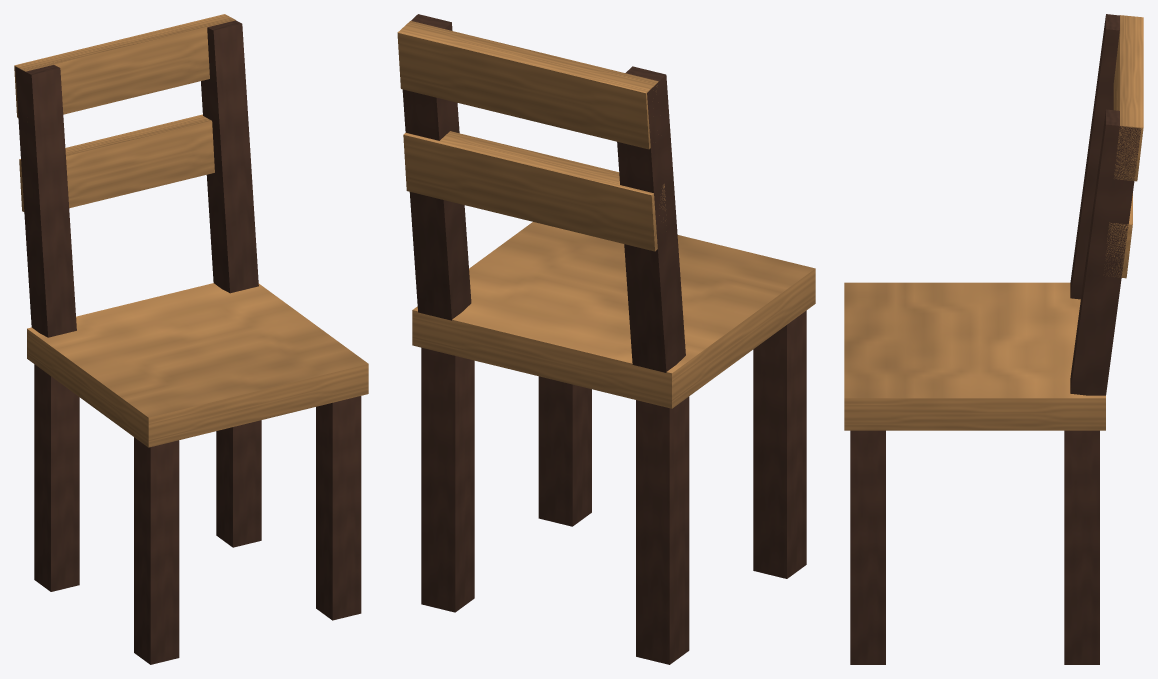
File: prop_chair_01.glb
The picture shows the model from 3 angles, left to right: view 1: azimuth 30°, elevation 25°; view 2: azimuth 150°, elevation 25°; view 3: azimuth 270°, elevation 25°; orthographic projection. The views are drawn at different scales.
Visible parts, largest first — view 1: prop_chair_01; view 2: prop_chair_01; view 3: prop_chair_01.
Boxes of the visible parts, x1,y1,x2,y2 form: prop_chair_01: (14, 14, 368, 664); prop_chair_01: (397, 14, 815, 664); prop_chair_01: (844, 14, 1143, 664).
Bounding box in the file's own units: 0.46 × 1 × 0.5033.
Materials: 1 (1 with a texture image).
